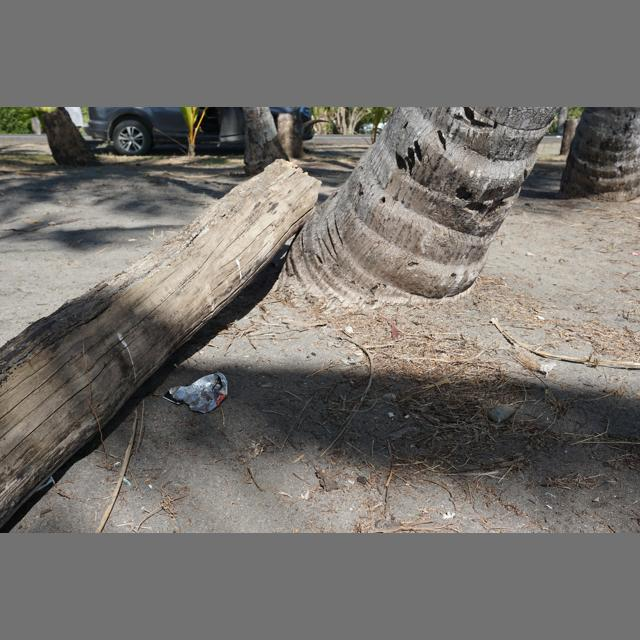litter: (163, 371, 228, 414), (379, 314, 399, 341)
